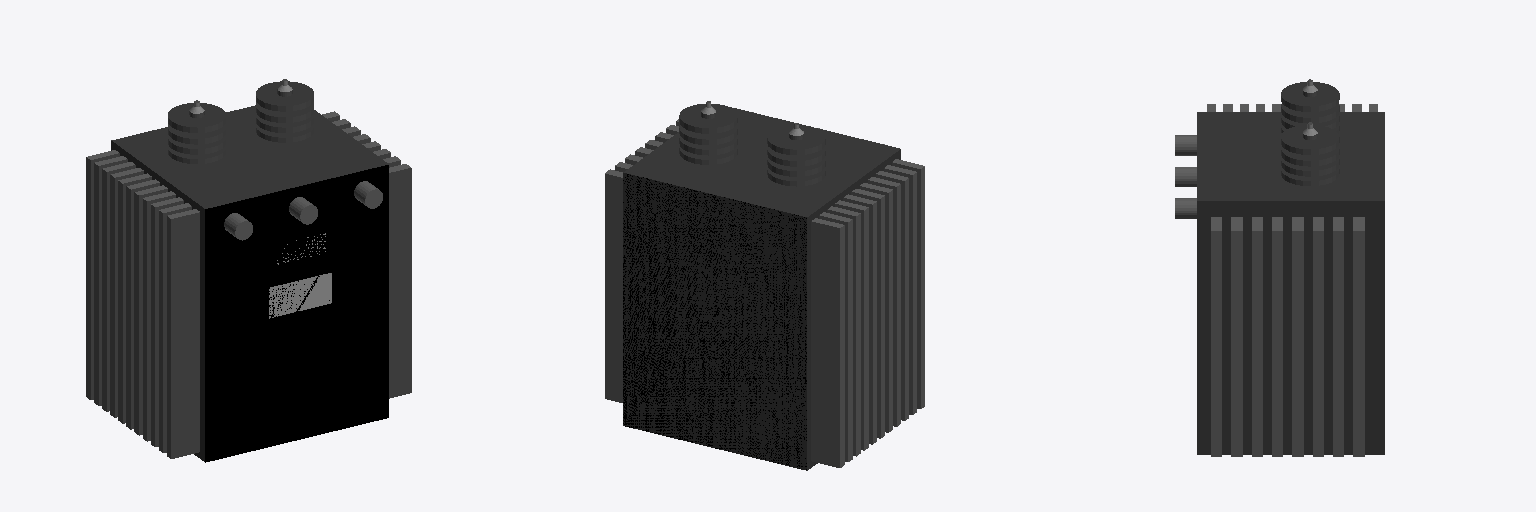
Rendered from Substation_Power_2500_KVA_Transformer.obj.
The picture shows the model from 3 angles: view 1: azimuth 30°, elevation 25°; view 2: azimuth 150°, elevation 25°; view 3: azimuth 270°, elevation 25°; orthographic projection.
Size of the model in its own units: 8.44 by 10.26 by 6.35.